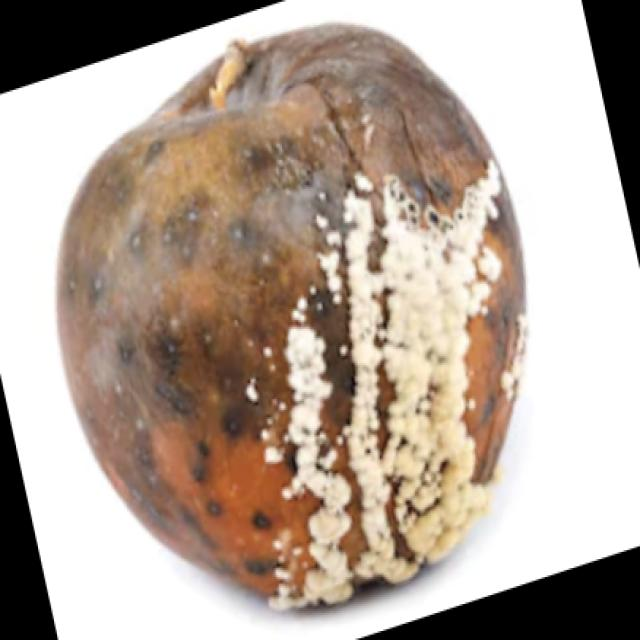organik: (48, 2, 601, 589)
